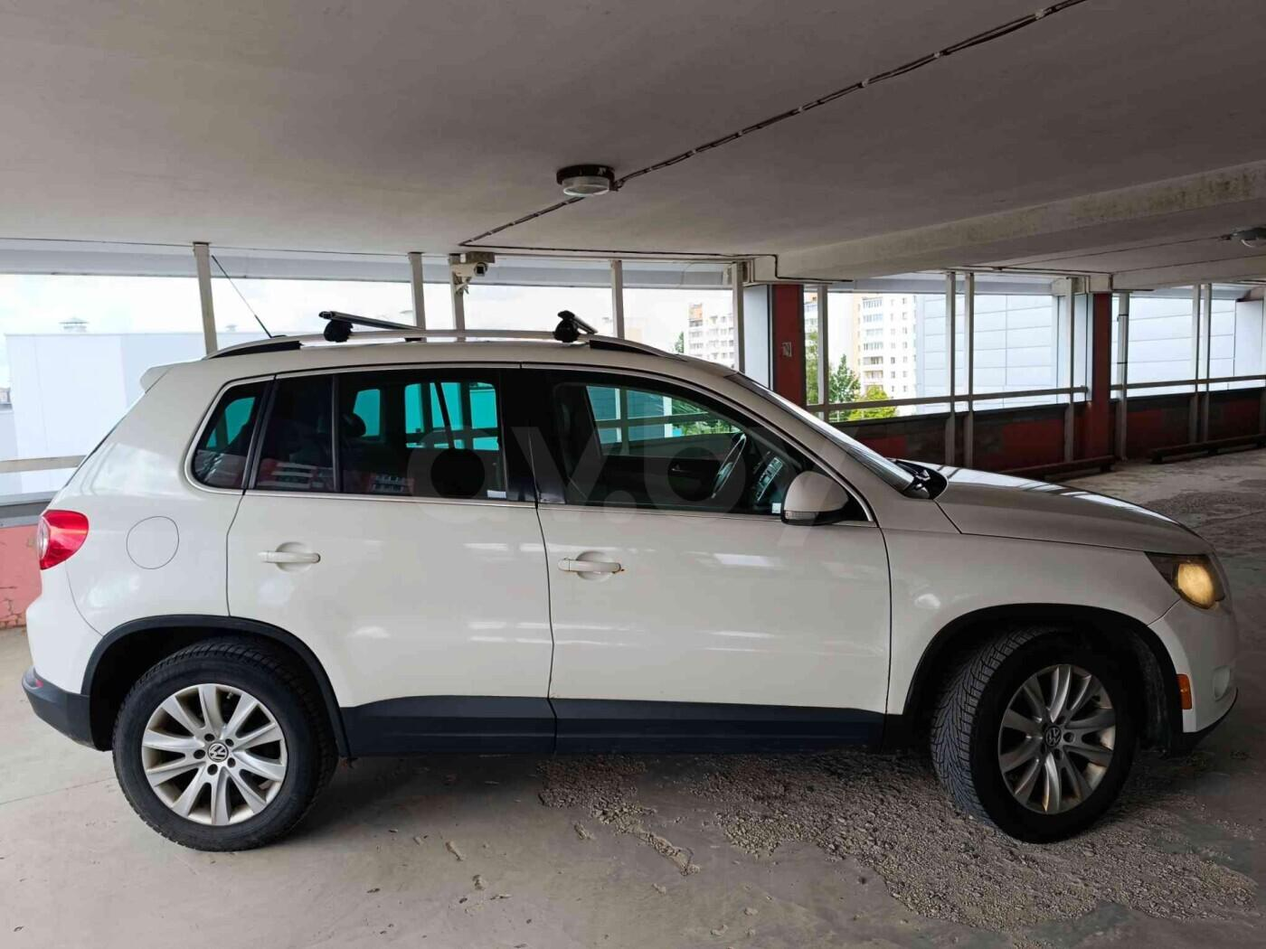Tiguan_2007-2011: (22, 325, 1235, 852)
